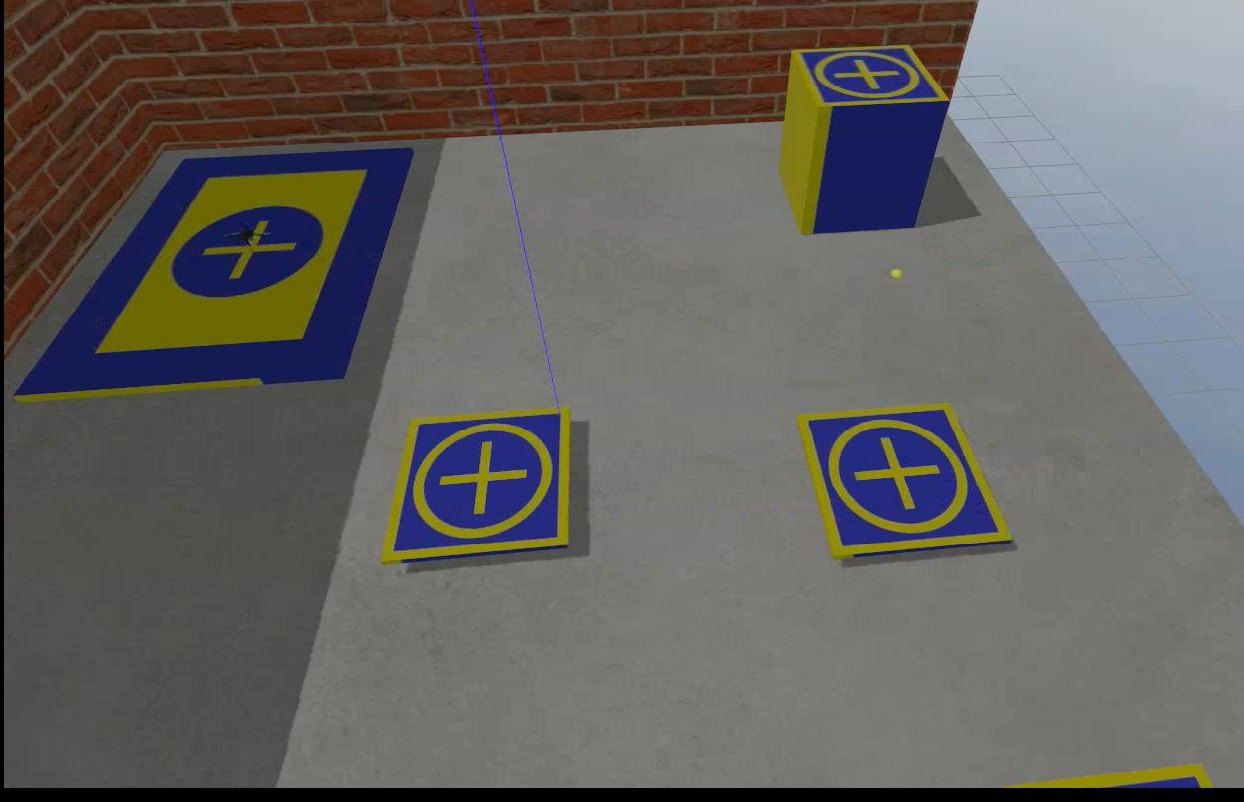large_base: (11, 149, 411, 402)
small_base: (794, 408, 1009, 558), (379, 411, 572, 567), (789, 38, 948, 120)
